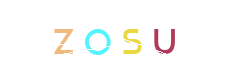0: (60, 0, 140, 80)
S: (80, 0, 160, 80)
U: (124, 0, 204, 80)
Z: (57, 0, 137, 80)
